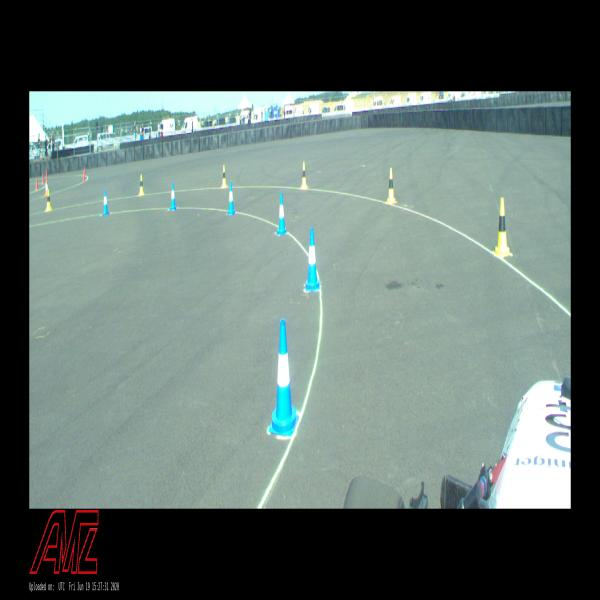blue_cone: (269, 319, 299, 437), (305, 227, 320, 291), (276, 193, 288, 236), (227, 182, 235, 216), (169, 182, 177, 211), (102, 189, 109, 216)
orange_cone: (44, 180, 48, 196)
yellow_cone: (494, 198, 510, 257), (386, 168, 397, 204), (300, 162, 309, 189), (44, 190, 52, 211), (221, 165, 228, 188), (138, 175, 145, 195)
